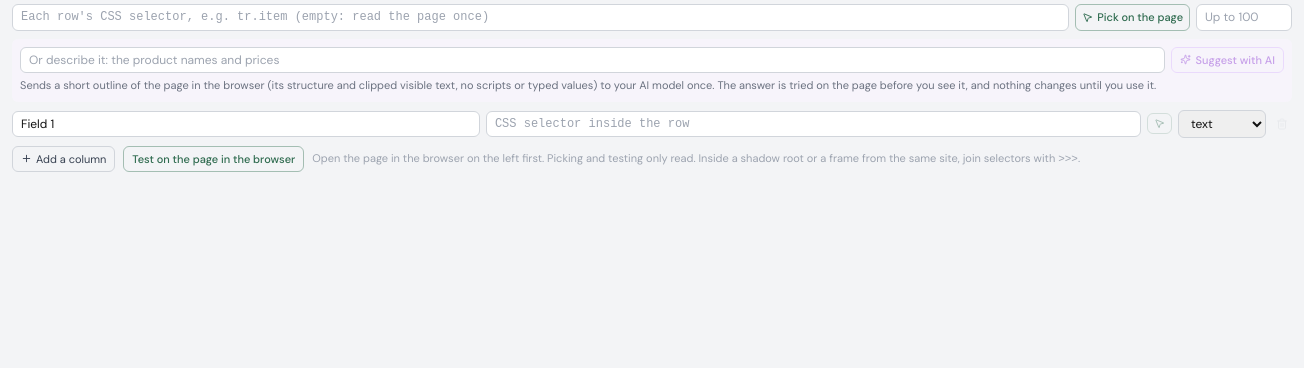
it: Suggest with AI › sends the description and shows the proposal with its rows, nothing changed yet
The width and height of the screenshot is (1304, 368).
Type "names and prices" into the field named "What to read for step 1" at (593,60), box x1=20 y1=47 x2=1166 y2=73
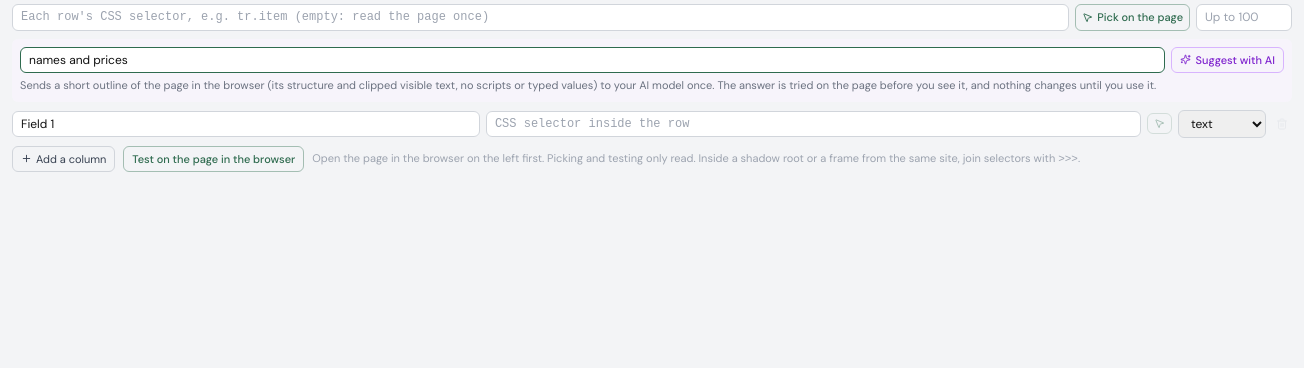
Click the button "Suggest with AI" at (1228,60), box x1=1172 y1=46 x2=1284 y2=73
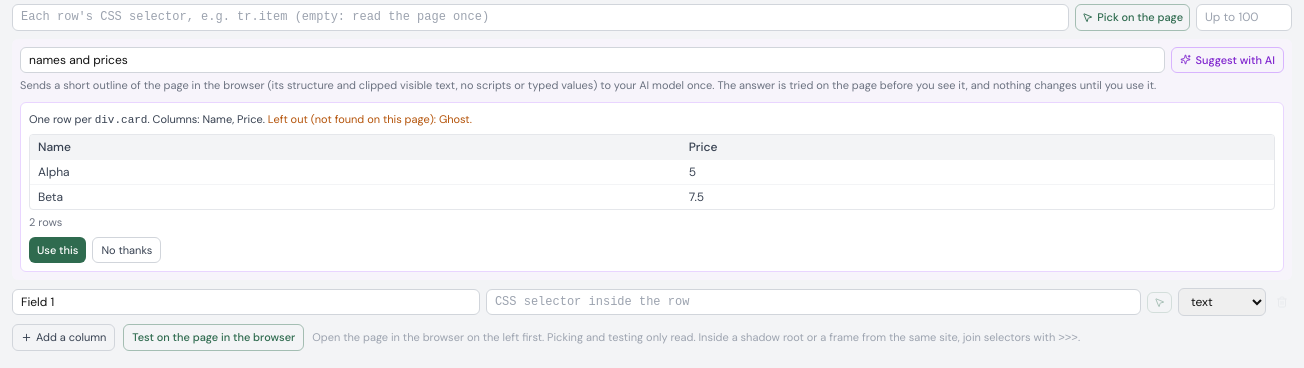
Expected: the text "Alpha" is shown, x1=30 y1=160 x2=681 y2=184
Expected: the text "Left out (not found on this page): Ghost." is shown, x1=265 y1=112 x2=472 y2=126
Expected: the text "div.card" is shown, x1=95 y1=114 x2=147 y2=126
